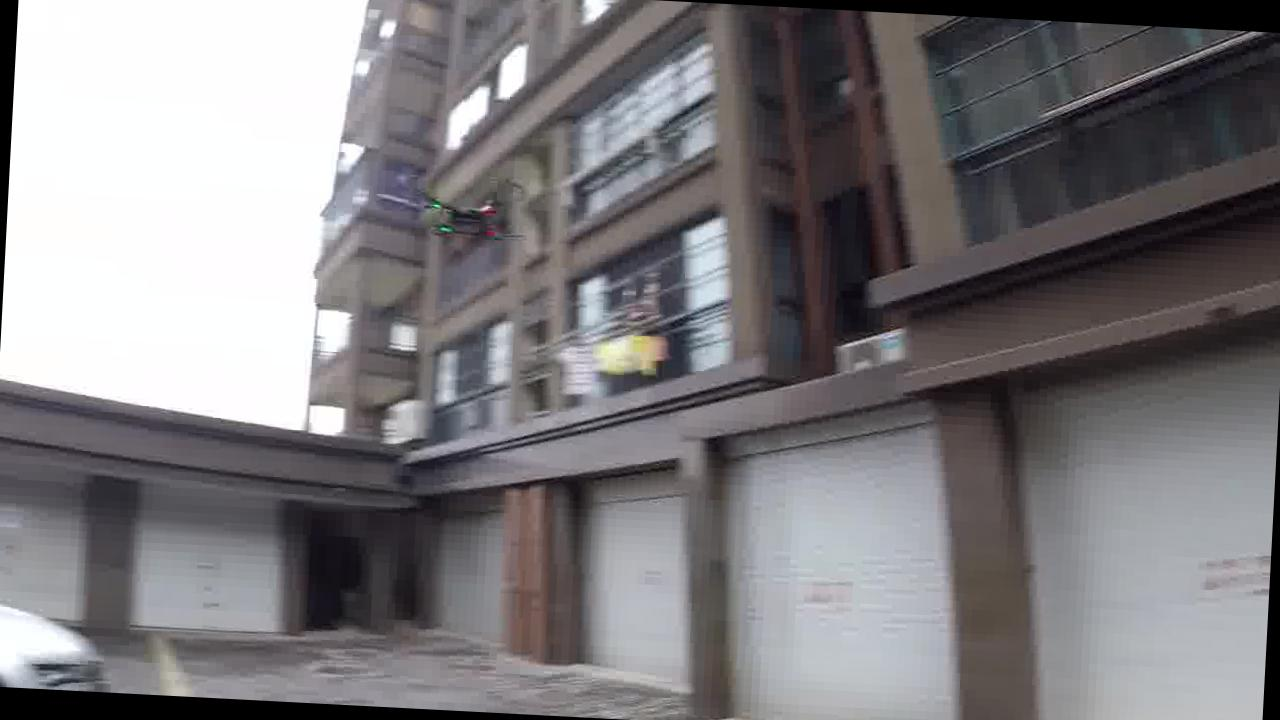drone: (403, 168, 528, 245)
